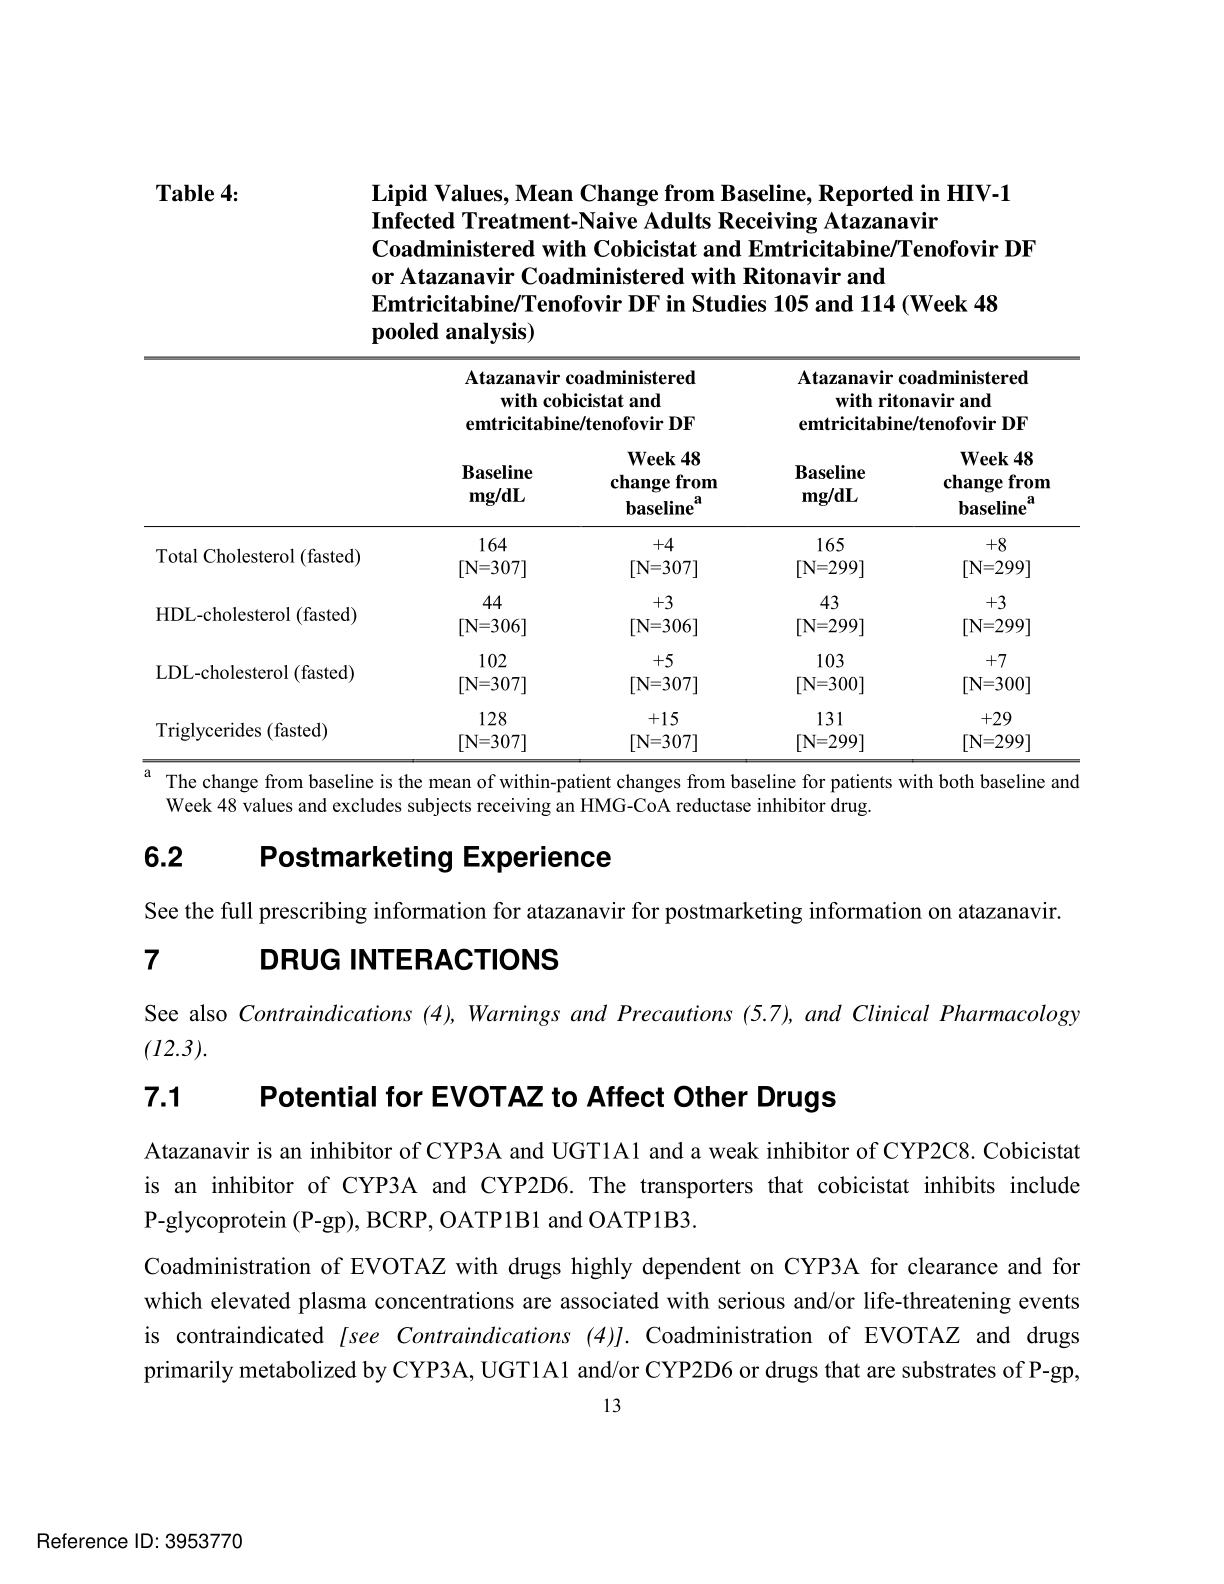partial_lined_merged_cells: (141, 354, 1083, 762)
